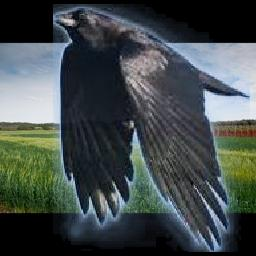Crow: (54, 4, 251, 252)
